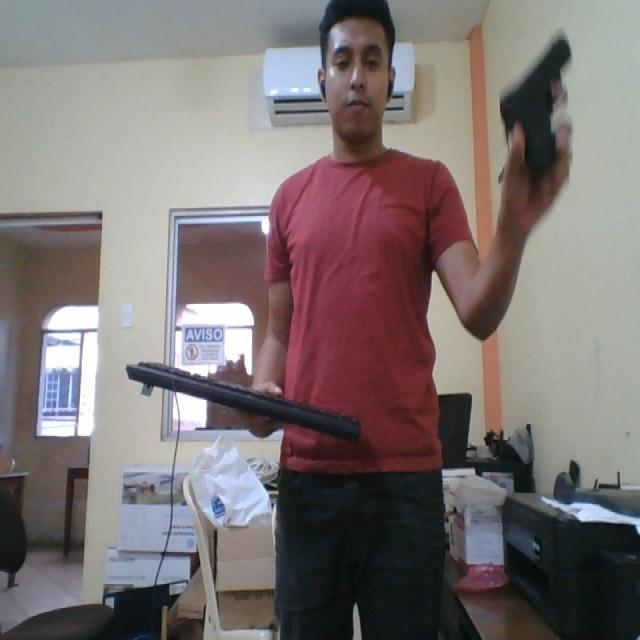weapon: (499, 30, 576, 179)
